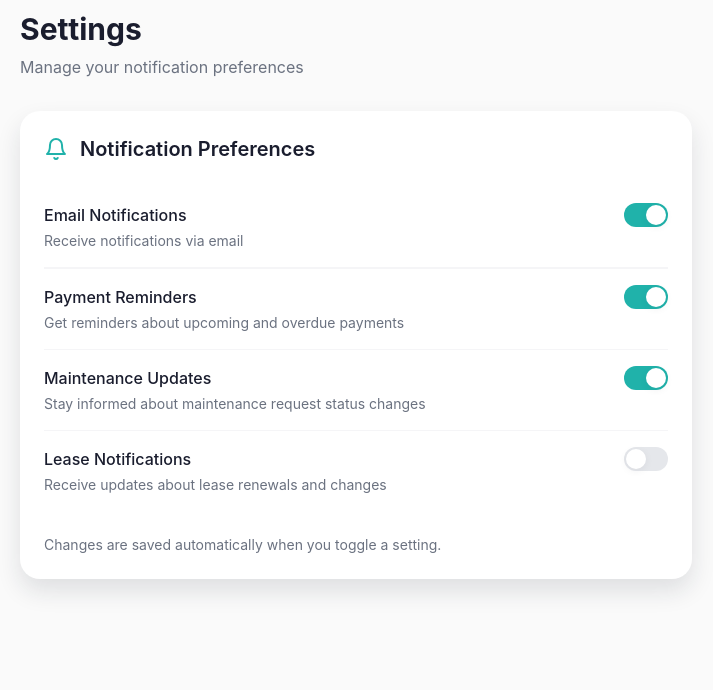
Scenario: TenantSettingsPage › Error Handling › should show error message when save fails
Click the switch named "email notifications" at (646, 215), box [624, 203, 668, 227]
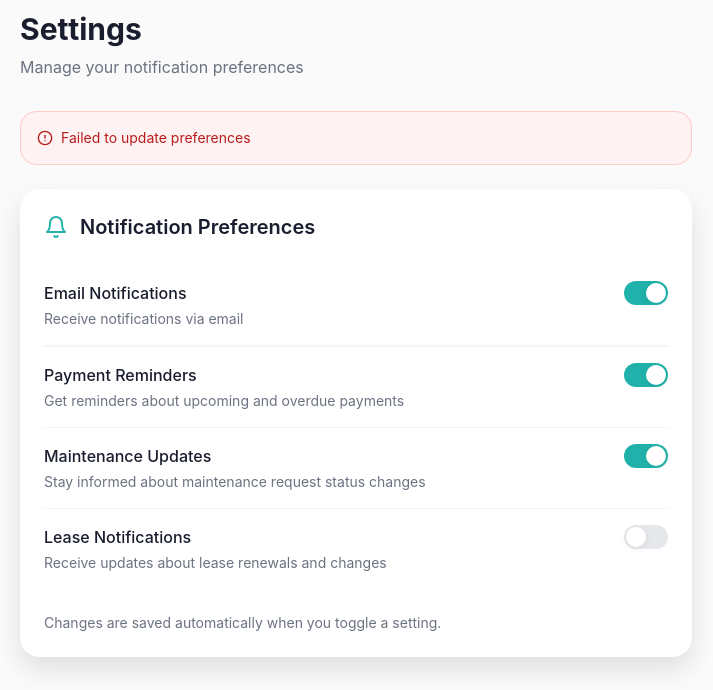
Now the text "Failed to update preferences" is shown, box [37, 129, 251, 146]
